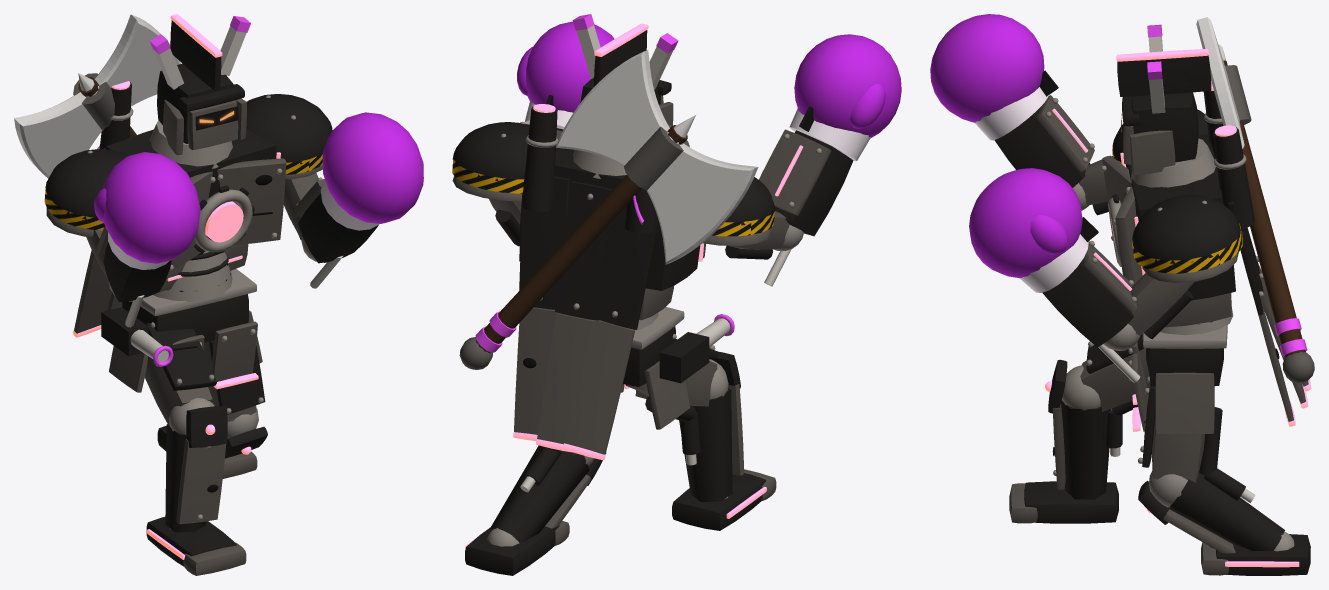
The model's file is warden_alt2.glb.
3 renders of one model, left to right at view 1: azimuth 30°, elevation 25°; view 2: azimuth 150°, elevation 25°; view 3: azimuth 270°, elevation 25°, orthographic. The views are drawn at different scales.
Parts seen in each view (by area): view 1: IRON WARDEN ALT 2, object 162, object 138, object 143, object 173, object 63, object 119, object 175, object 22, object 153, object 50, object 12 (+34 smaller); view 2: object 138, object 173, object 175, object 99, object 98, object 166, object 162, IRON WARDEN ALT 2, object 104, object 40, object 103, object 18 (+30 smaller); view 3: object 138, IRON WARDEN ALT 2, object 162, object 143, object 40, object 18, object 153, object 166, object 25, object 129, object 50, object 82 (+43 smaller).
Boxes of the visible parts, x1,y1,x2,y2 form: IRON WARDEN ALT 2: (109,251,262,392); object 162: (322,112,423,223); object 138: (103,152,200,263); object 143: (246,94,332,164); object 173: (14,92,102,178); object 63: (217,158,286,245); object 119: (45,149,128,219); object 175: (94,14,180,106); object 22: (176,439,226,524); object 153: (298,193,378,263); object 50: (105,129,275,254); object 12: (146,323,216,390); object 138: (794,34,901,138); object 173: (646,143,758,264); object 175: (555,50,669,166); object 99: (564,320,634,454); object 98: (592,206,658,329); object 166: (475,125,687,353); object 162: (526,21,614,112); IRON WARDEN ALT 2: (563,307,690,429); object 104: (537,313,593,444); object 40: (490,445,589,543); object 103: (554,181,612,320); object 18: (679,388,732,501); object 138: (930,14,1044,122); IRON WARDEN ALT 2: (1131,307,1233,434); object 162: (969,168,1082,278); object 143: (1132,195,1241,263); object 40: (1167,473,1284,550); object 18: (1061,400,1110,499); object 153: (1042,259,1133,347); object 166: (1223,60,1305,357); object 25: (1024,481,1118,523); object 129: (994,106,1090,187); object 50: (1128,134,1235,300); object 82: (1131,92,1198,162).
Size of what is drawn, in the model's own units: 1.76 by 2.5 by 1.74.
190 materials, 3 textured.
